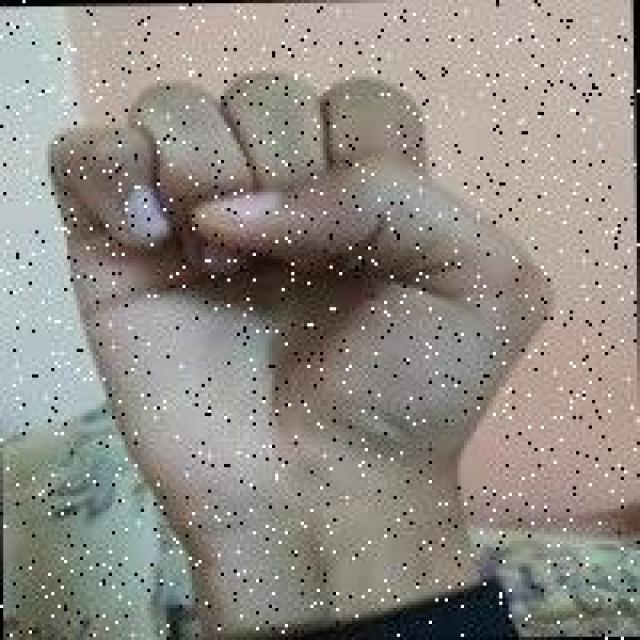E: (45, 58, 576, 528)
